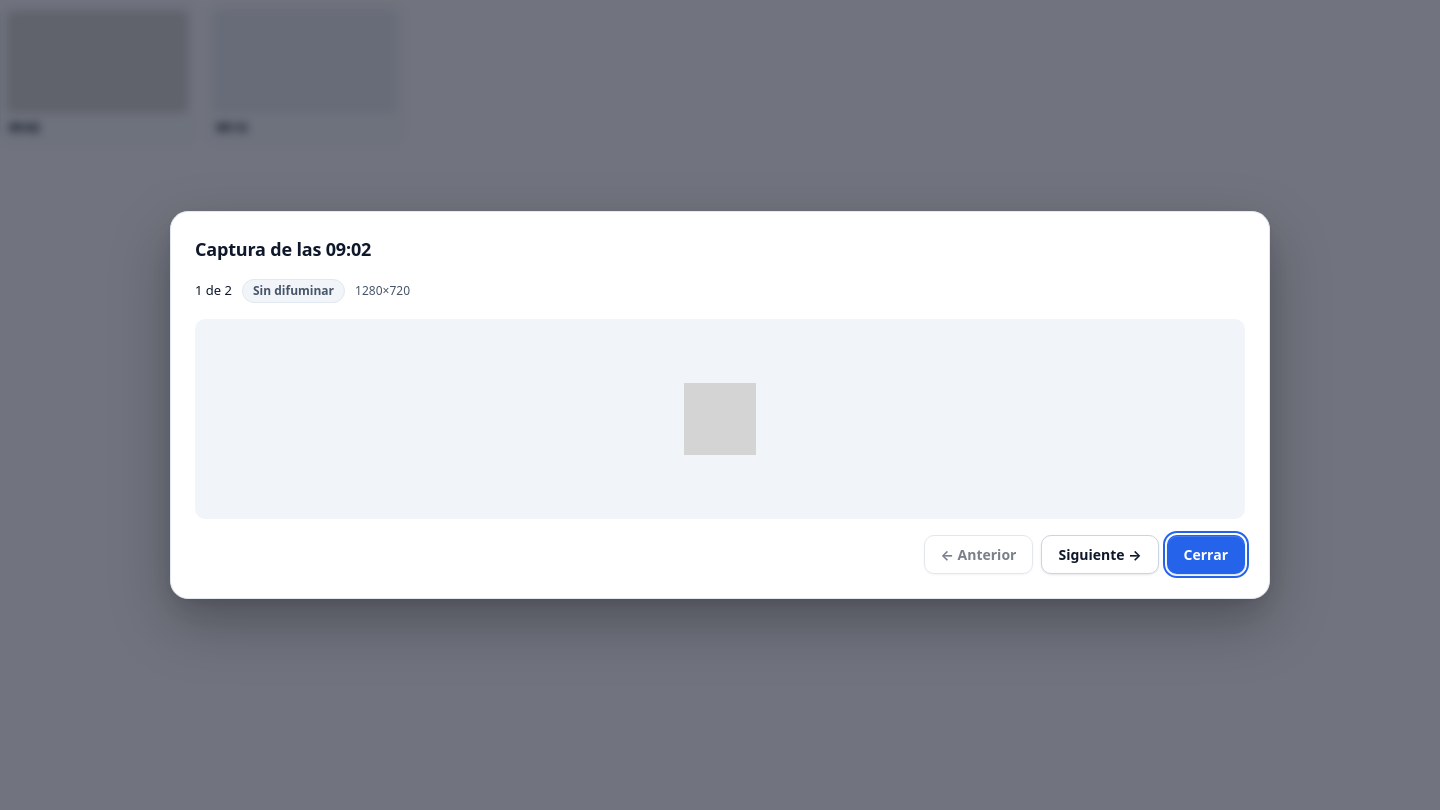
Scenario: Lightbox › does not show the previous image while the next one loads
Click the button "Siguiente →" at (1100, 554), box [1041,535,1158,574]
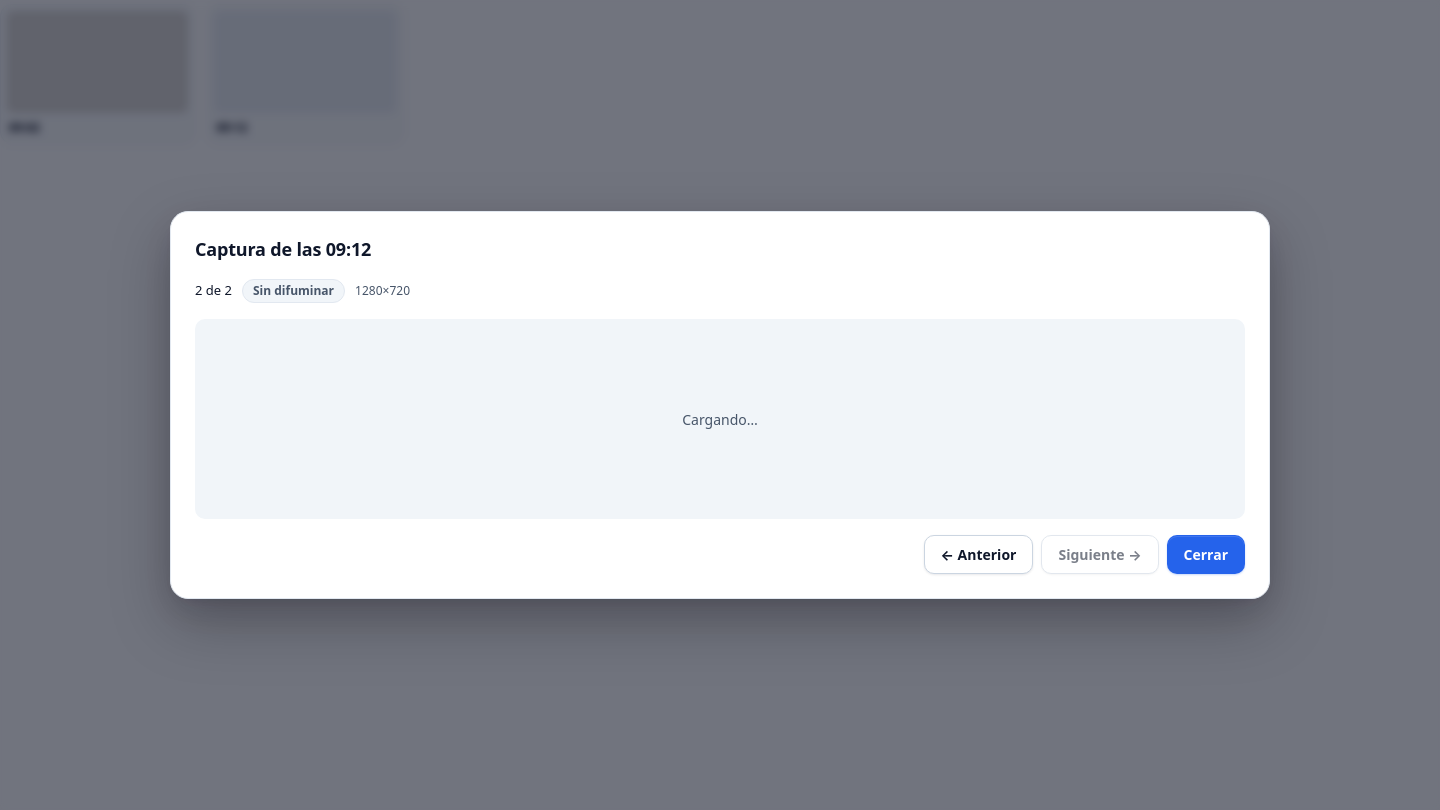
Check: the heading "Captura de las 09:12" is shown, box [195,237,371,261]
Check: the text "Cargando…" is shown, box [682,408,758,430]
